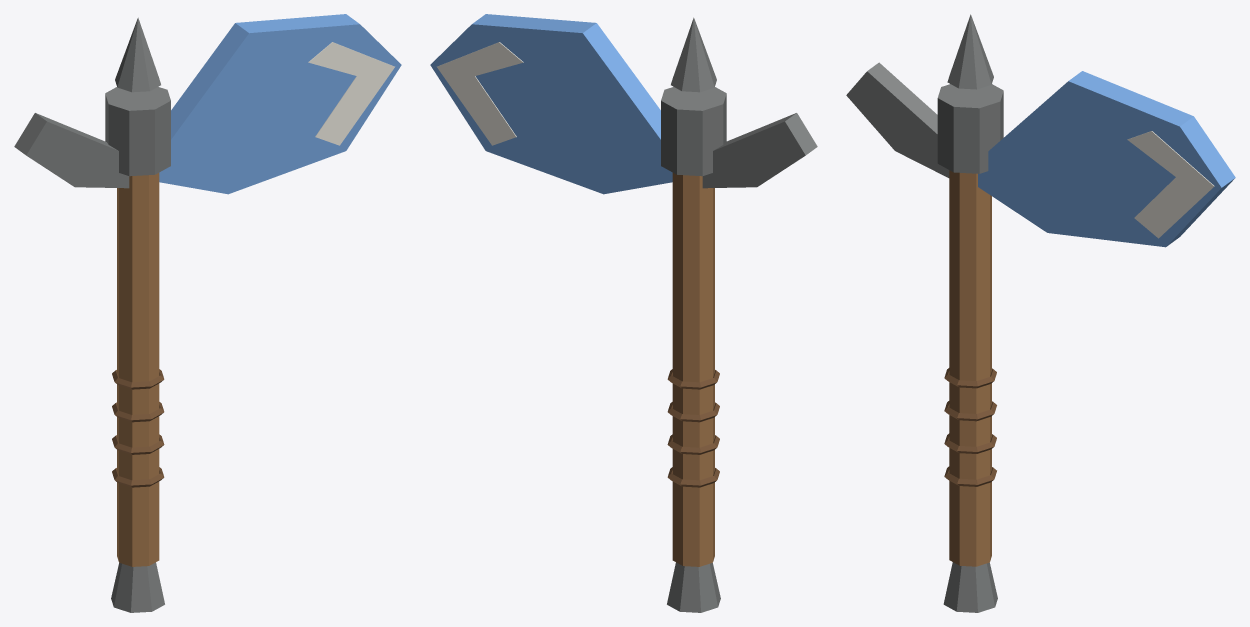
File: t4_axe.glb
3 renders of one model, left to right at view 1: azimuth 30°, elevation 25°; view 2: azimuth 150°, elevation 25°; view 3: azimuth 330°, elevation 25°, orthographic.
Parts seen in each view (by area): view 1: RightBlade, WoodHandle, TopSocket, BackSpike, RightBladeEdge, BottomPommel, TopSpike; view 2: RightBlade, WoodHandle, TopSocket, BackSpike, RightBladeEdge, BottomPommel, TopSpike; view 3: RightBlade, WoodHandle, BackSpike, TopSocket, RightBladeEdge, BottomPommel, TopSpike.
Part boxes in pixels (x1,y1,x2,y2): RightBlade: (159, 14, 401, 194); WoodHandle: (117, 173, 159, 566); TopSocket: (105, 87, 170, 176); BackSpike: (14, 113, 129, 188); RightBladeEdge: (308, 42, 394, 145); BottomPommel: (111, 562, 164, 612); TopSpike: (115, 17, 160, 92); RightBlade: (430, 14, 672, 194); WoodHandle: (672, 173, 714, 566); TopSocket: (661, 87, 726, 176); BackSpike: (702, 113, 817, 188); RightBladeEdge: (437, 42, 523, 145); BottomPommel: (667, 562, 720, 612); TopSpike: (671, 17, 716, 92); RightBlade: (978, 71, 1235, 247); WoodHandle: (949, 170, 991, 566); BackSpike: (846, 62, 949, 177); TopSocket: (937, 84, 1003, 173); RightBladeEdge: (1127, 131, 1214, 238); BottomPommel: (943, 562, 997, 612); TopSpike: (947, 14, 993, 89).
Size of the model in its own units: 1.08 by 1.61 by 0.17.
